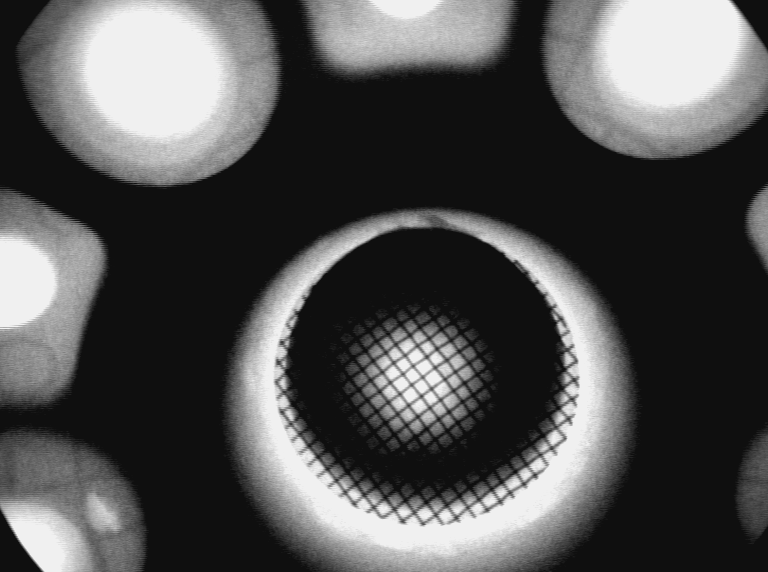defect: (80, 488, 126, 541)
